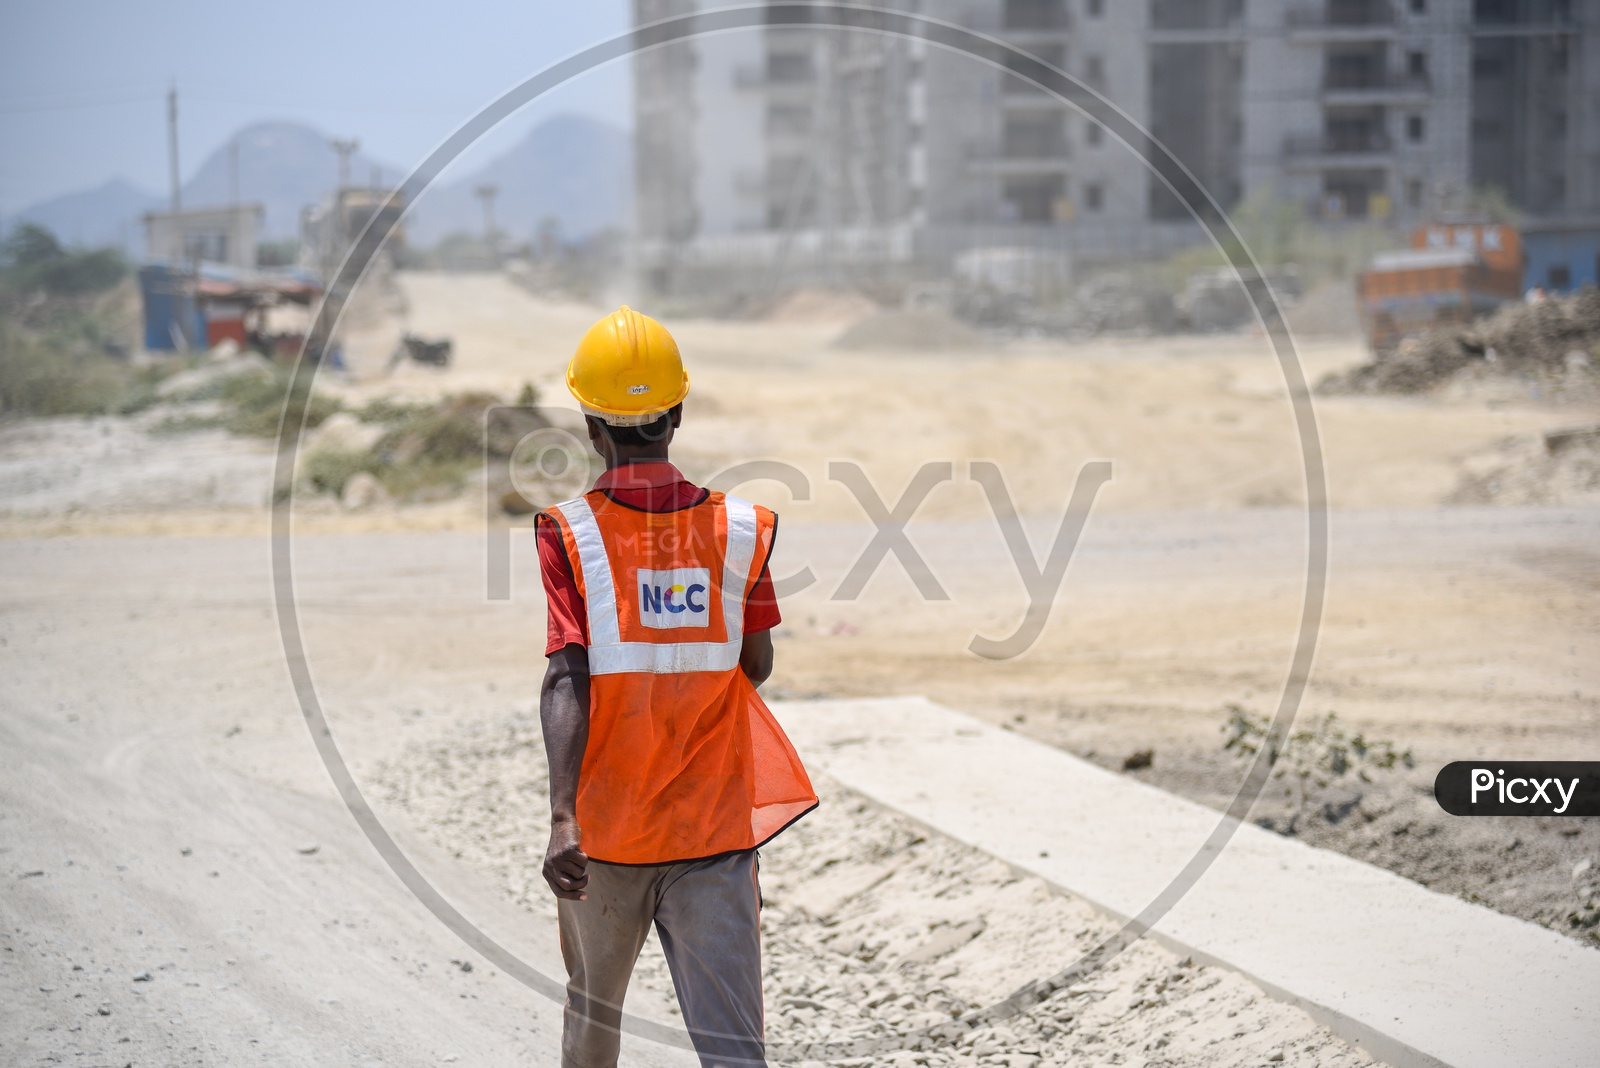Person_wearing_helmet: (547, 296, 705, 422)
